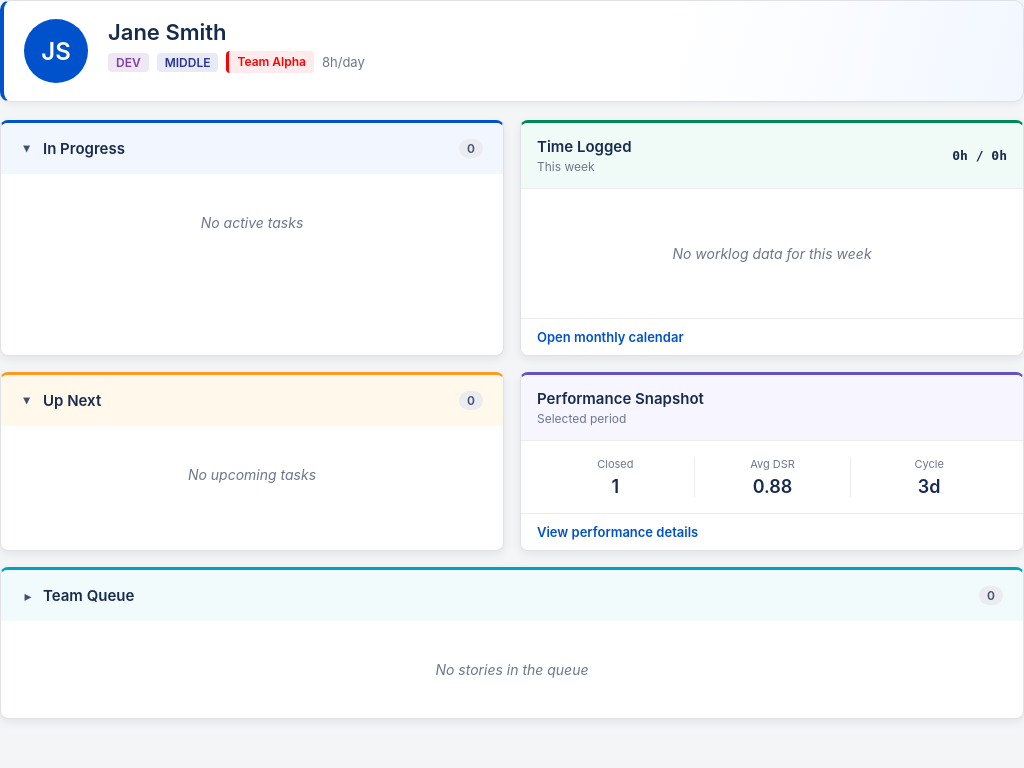
MyWorkPage › log button on a Completed row opens modal with that task
The width and height of the screenshot is (1024, 768).
Click the button "View performance details": {"x": 618, "y": 532} 521,513 -> 1023,550
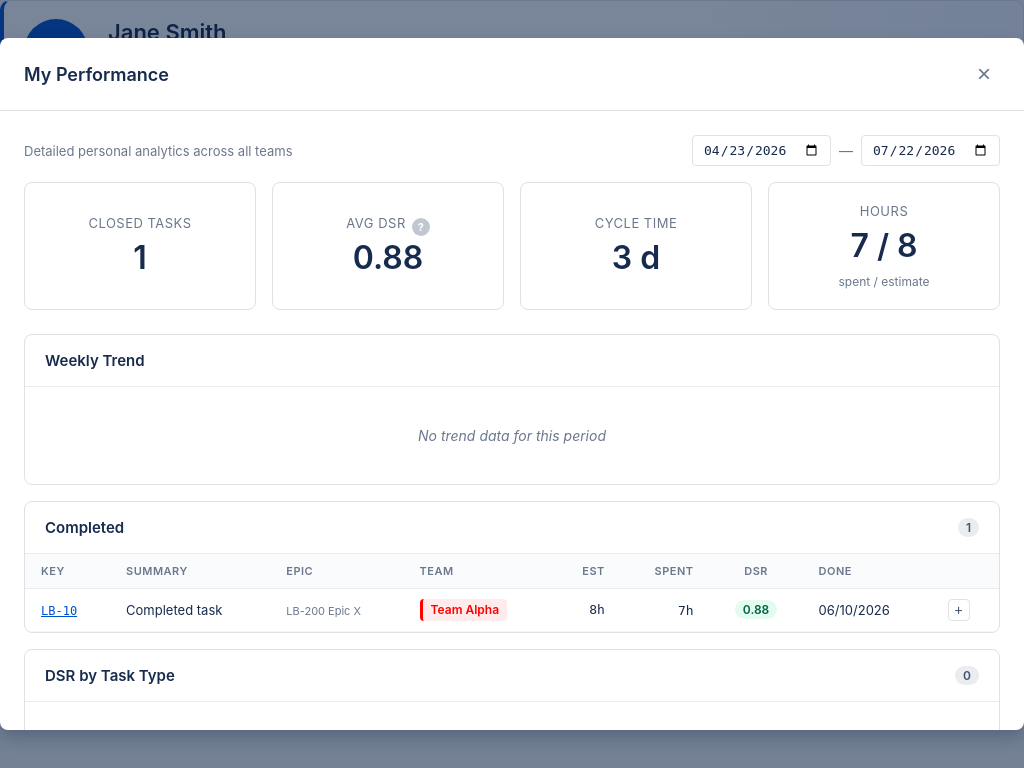
Result: the text "Completed task" is shown at 110,588 -> 270,631
Result: the number of buttons titled "Log time" is 1
Click the button titled "Log time": {"x": 958, "y": 610} 948,599 -> 970,621
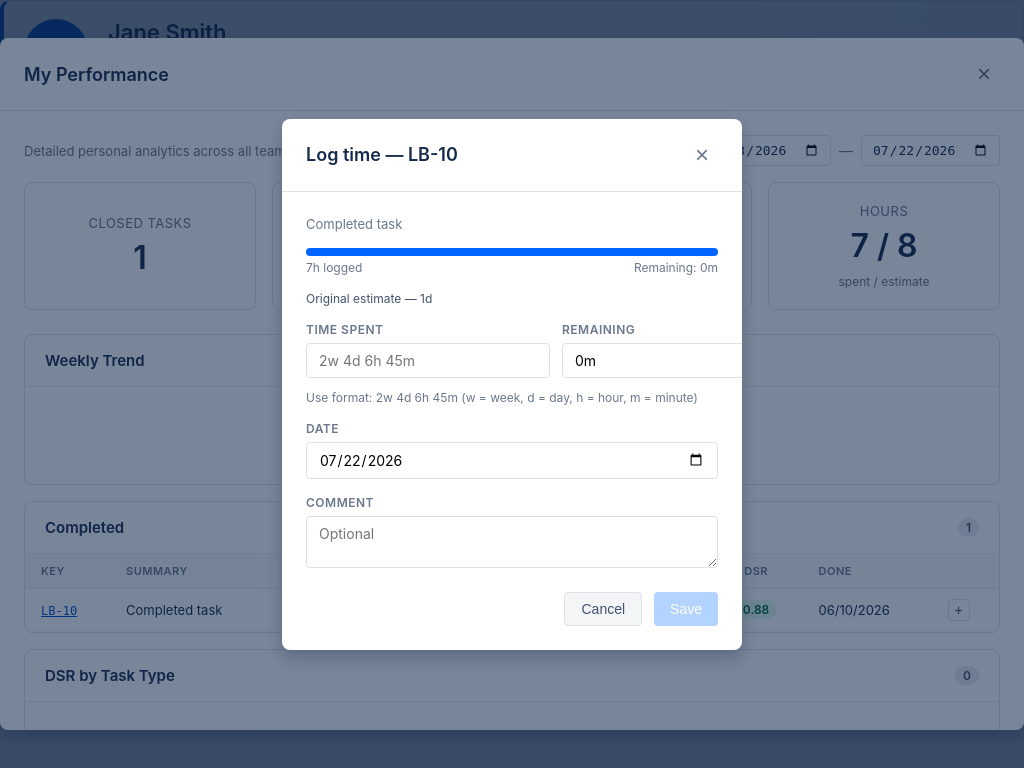
Result: the heading "Log time — LB-10" is shown at 306,144 -> 458,165
